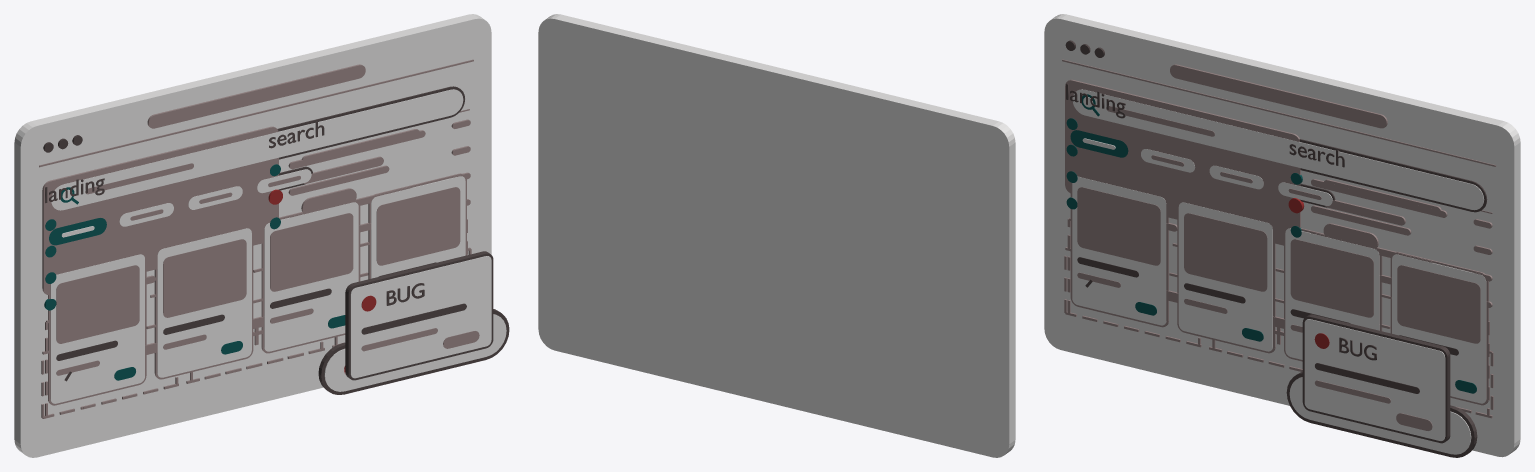
The model's file is Cmeshcards.glb.
3 renders of one model, left to right at view 1: azimuth 30°, elevation 25°; view 2: azimuth 150°, elevation 25°; view 3: azimuth 330°, elevation 25°, orthographic.
Parts seen in each view (by area): view 1: Card, E_Hero, Ticket, U_Result_2, U_Result_1, U_Result_3, U_Search, U_Result_4, Chrome, Zero, E_Copy, S_Row_search_1 (+9 smaller); view 2: Card; view 3: Card, E_Hero, Ticket, U_Result_2, U_Result_1, U_Search, U_Result_4, U_Result_3, Chrome, Zero, E_Copy, S_Row_search_1 (+9 smaller).
Boxes of the visible parts, x1,y1,x2,y2 form: Card: [14, 14, 491, 457]; E_Hero: [42, 126, 278, 295]; Ticket: [345, 251, 493, 380]; U_Result_2: [154, 228, 253, 379]; U_Result_1: [48, 254, 146, 405]; U_Result_3: [261, 202, 360, 353]; U_Search: [51, 86, 464, 210]; U_Result_4: [368, 173, 466, 279]; Chrome: [39, 59, 473, 167]; Zero: [318, 309, 509, 394]; E_Copy: [301, 129, 419, 212]; S_Row_search_1: [270, 119, 470, 176]; Card: [538, 14, 1015, 457]; Card: [1044, 14, 1520, 457]; E_Hero: [1065, 79, 1300, 245]; Ticket: [1302, 314, 1450, 443]; U_Result_2: [1177, 202, 1275, 353]; U_Result_1: [1070, 176, 1168, 327]; U_Search: [1072, 89, 1487, 212]; U_Result_4: [1390, 251, 1488, 405]; U_Result_3: [1284, 228, 1382, 361]; Chrome: [1062, 40, 1496, 166]; Zero: [1286, 372, 1477, 457]; E_Copy: [1323, 179, 1441, 247]; S_Row_search_1: [1290, 173, 1492, 228].
Bounding box in the file's own units: 2.6 × 1.75 × 0.401.
